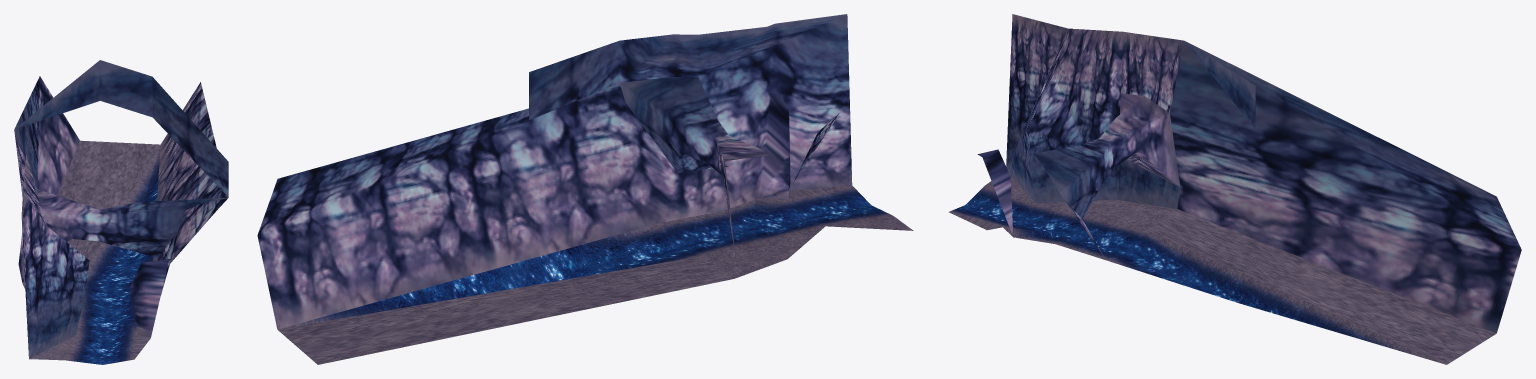
3 views of the same model, side by side, from view 1: azimuth 30°, elevation 25°; view 2: azimuth 150°, elevation 25°; view 3: azimuth 270°, elevation 25° (orthographic). The views are drawn at different scales.
Parts seen in each view (by area): view 1: 26; view 2: 26; view 3: 26.
Part boxes in pixels (left/top/right/bottom): 26: left=14, top=60, right=228, bottom=364; 26: left=257, top=14, right=913, bottom=364; 26: left=948, top=14, right=1521, bottom=364.
Size of the model in its own units: 11801 by 5831 by 14816.
3 materials, 3 textured.
